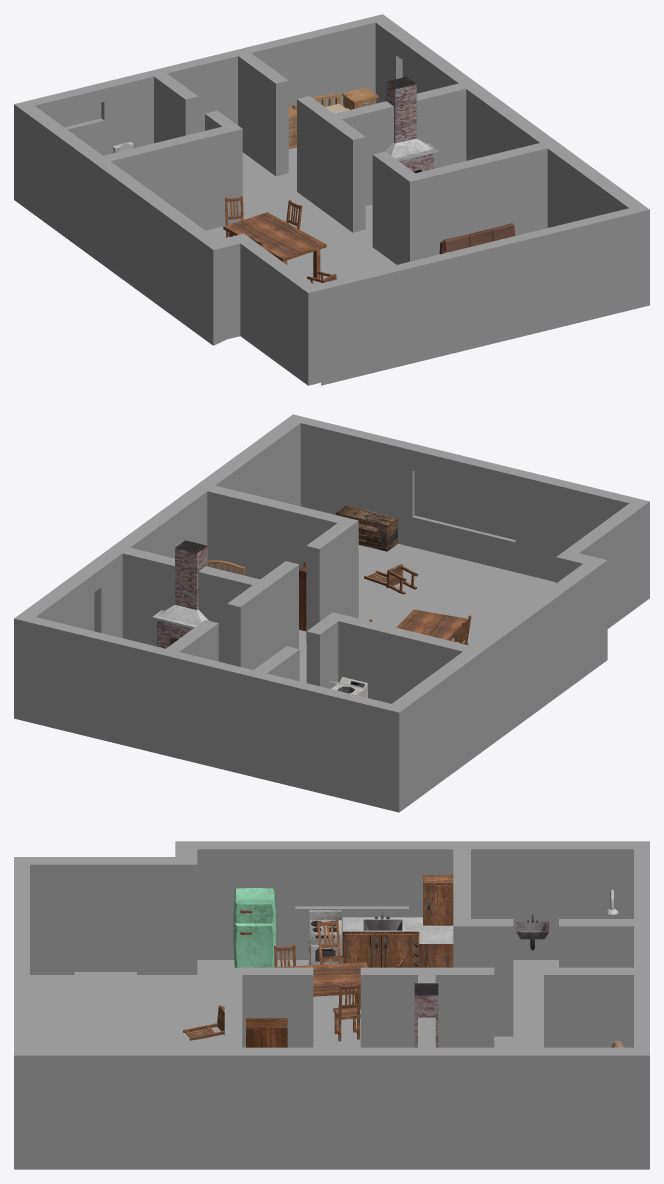
Rendered from H3_Int_Damaged.fbx.
3 views of the same model, one above another, from view 1: azimuth 30°, elevation 25°; view 2: azimuth 150°, elevation 25°; view 3: azimuth 270°, elevation 25° (orthographic). The views are drawn at different scales.
Visible parts, largest first — view 1: House_1_Interior5, Fire_Place_6, Table3, Couch_9, Bedside_Draws6; view 2: House_1_Interior5, Fire_Place_6, Tv_stand4, Table3, Chair7; view 3: House_1_Interior5, KItchen_Sink10, Fidge3, Table3, StoveTop4, Closet5, Fire_Place_6, Chair6, Chair8, Sink3, Chair10.
Boxes of the visible parts, x1=… form: House_1_Interior5: x1=14, y1=14, x2=649, y2=385; Fire_Place_6: x1=385, y1=76, x2=438, y2=173; Table3: x1=223, y1=212, x2=326, y2=278; Couch_9: x1=439, y1=223, x2=515, y2=254; Bedside_Draws6: x1=342, y1=87, x2=378, y2=109; House_1_Interior5: x1=14, y1=414, x2=649, y2=812; Fire_Place_6: x1=152, y1=540, x2=208, y2=648; Tv_stand4: x1=336, y1=505, x2=397, y2=551; Table3: x1=396, y1=609, x2=466, y2=641; Chair7: x1=364, y1=564, x2=417, y2=594; House_1_Interior5: x1=14, y1=841, x2=649, y2=1169; KItchen_Sink10: x1=342, y1=875, x2=453, y2=967; Fidge3: x1=233, y1=888, x2=275, y2=967; Table3: x1=272, y1=962, x2=367, y2=1009; StoveTop4: x1=308, y1=910, x2=341, y2=965; Closet5: x1=246, y1=1018, x2=287, y2=1047; Fire_Place_6: x1=414, y1=983, x2=438, y2=1047; Chair6: x1=333, y1=983, x2=360, y2=1041; Chair8: x1=317, y1=919, x2=343, y2=964; Sink3: x1=516, y1=914, x2=548, y2=950; Chair10: x1=183, y1=1005, x2=224, y2=1040.
Size of the model in its own units: 34.24 by 10.13 by 42.95.
